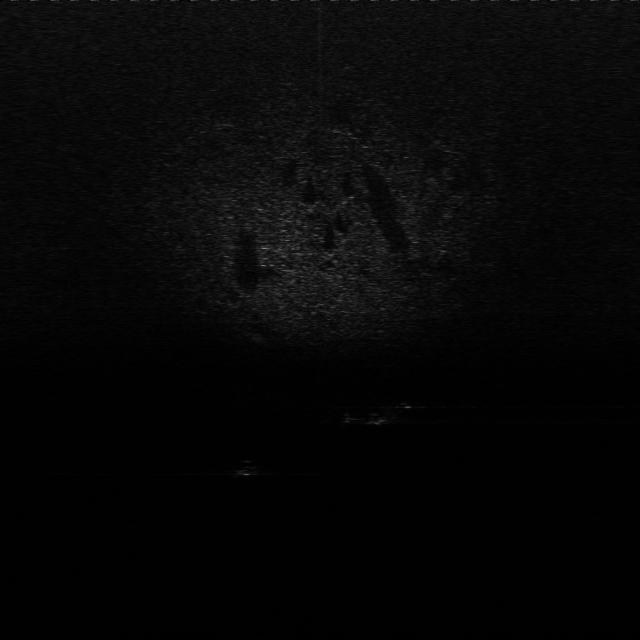ball: (230, 457, 264, 480)
human body: (337, 401, 429, 432)
